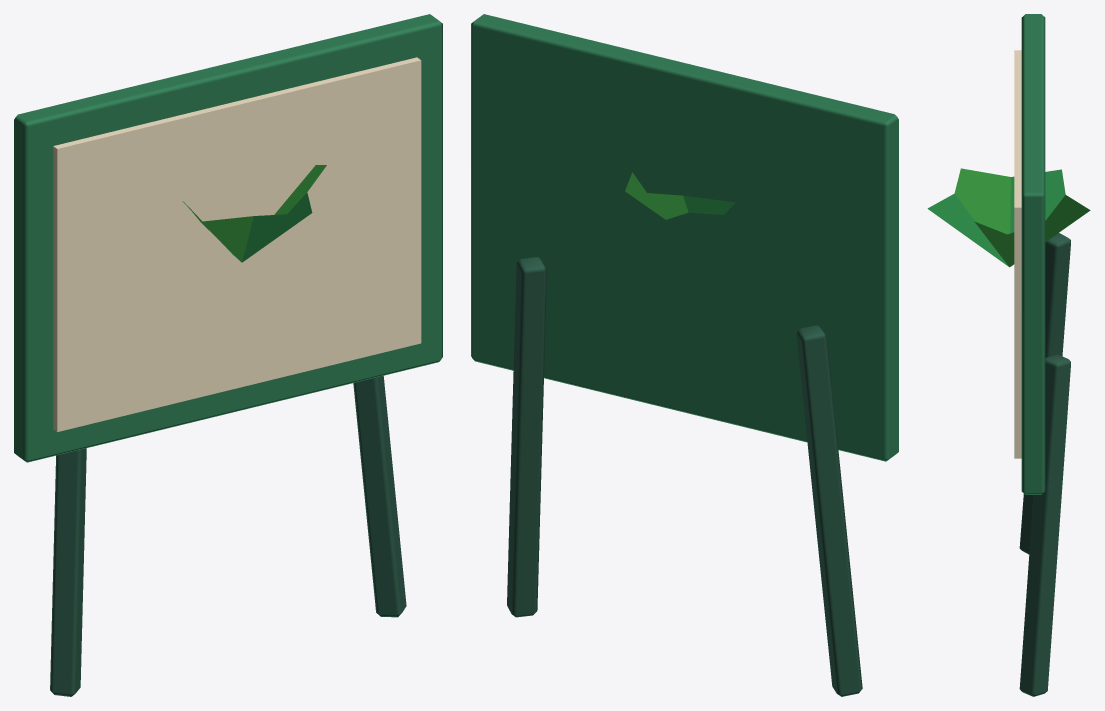
Rendered from label_board.glb.
3 renders of one model, left to right at view 1: azimuth 30°, elevation 25°; view 2: azimuth 150°, elevation 25°; view 3: azimuth 270°, elevation 25°, orthographic. The views are drawn at different scales.
Parts seen in each view (by area): view 1: label_board; view 2: label_board; view 3: label_board.
Part boxes in pixels (x1,y1,x2,y2): label_board: (14, 14, 442, 696); label_board: (471, 14, 898, 696); label_board: (927, 14, 1090, 696).
Bounding box in the file's own units: 0.9 × 1.2 × 0.3423.
